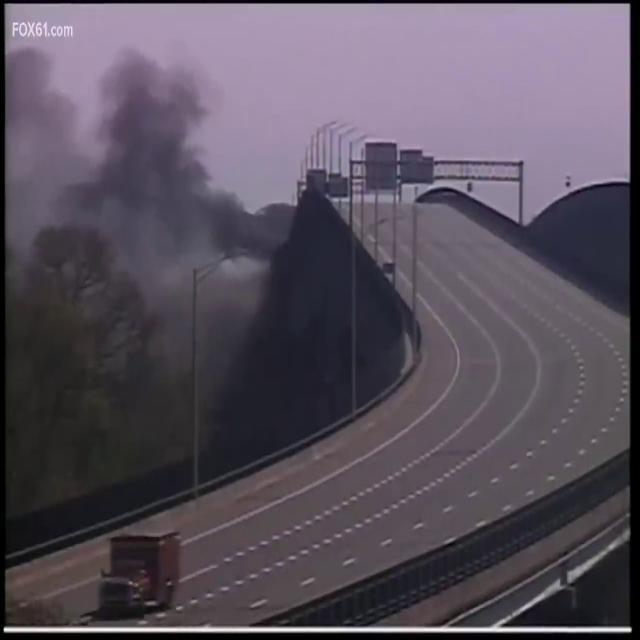Smoke: (4, 52, 320, 498)
